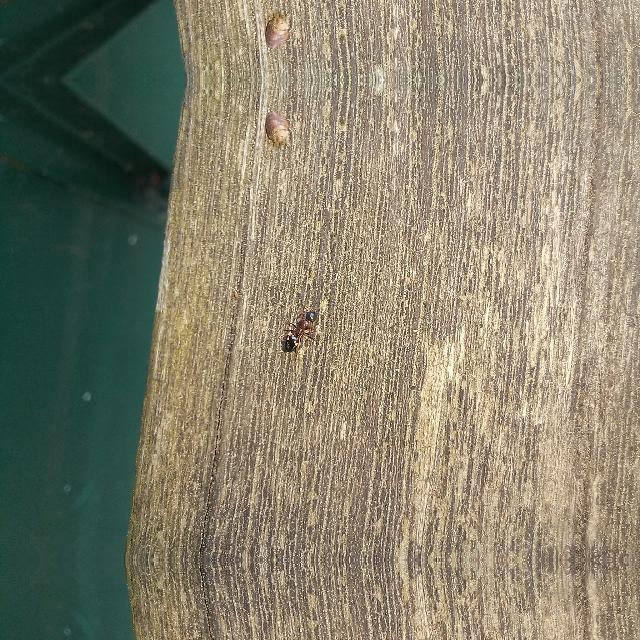Dolichoderus: (270, 300, 328, 358)
